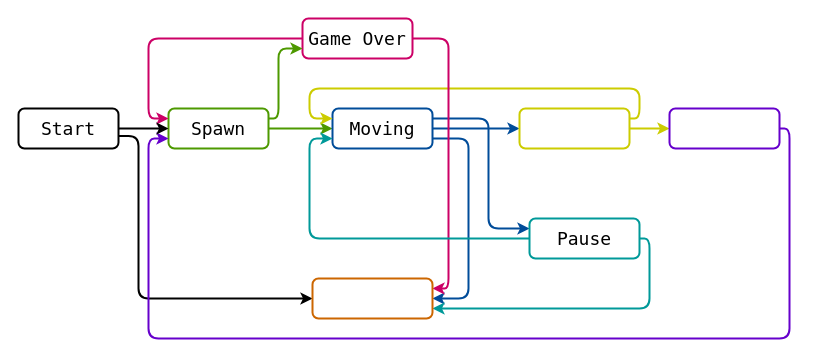
Image size: 815x364. Some labels were removed from this diagram. Here are the shapes that lost their labels. From the top down, the centre of each, then its label:
At [574,128]: "Shifting".
At [724,128]: "Attaching".
At [372,298]: "Exit state".
